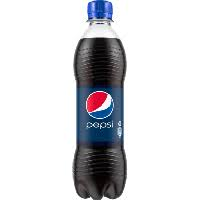bottle: (73, 2, 127, 200)
pepsi: (82, 90, 117, 120)
plastic: (75, 3, 128, 200)
